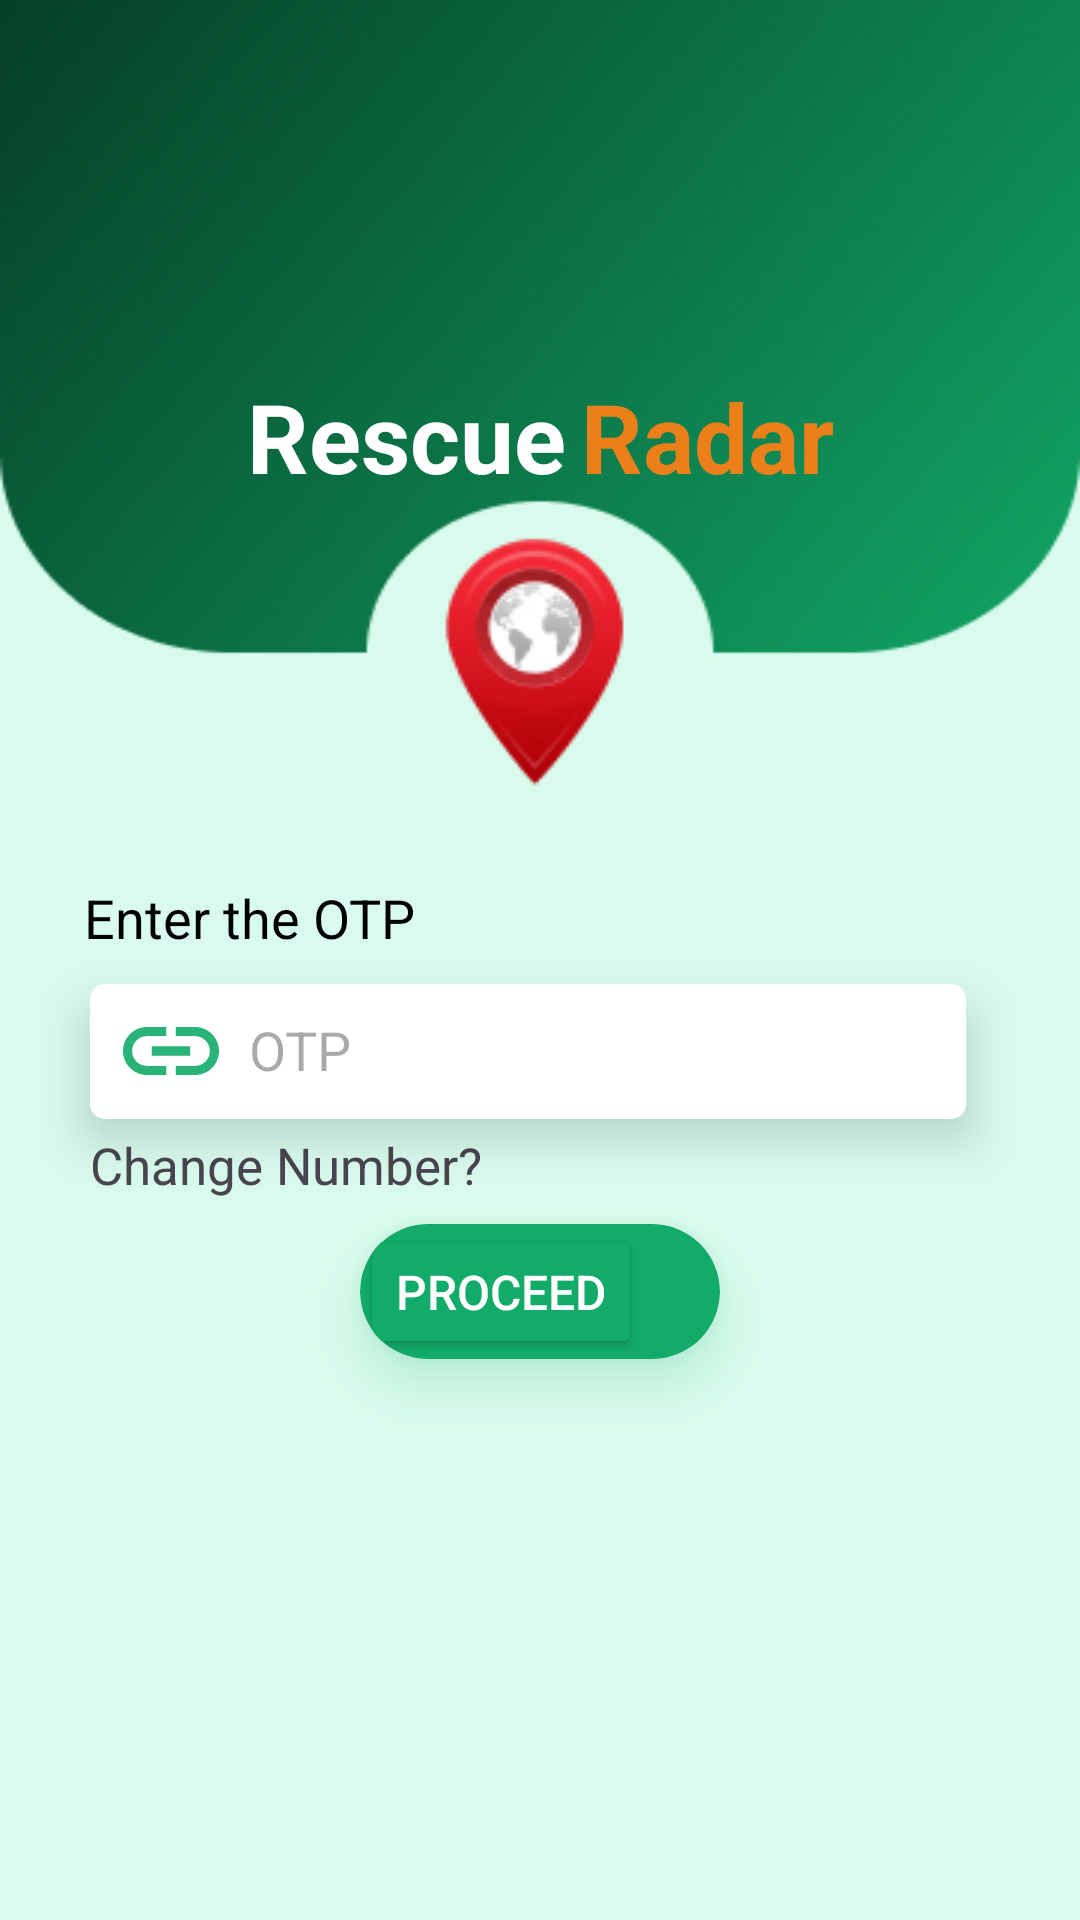

Icons on this 1080px×1920px Android screen, each with its box as (left=x1, top=y1, right=x2, bottom=y2):
locimage: (left=445, top=538, right=624, bottom=786)
